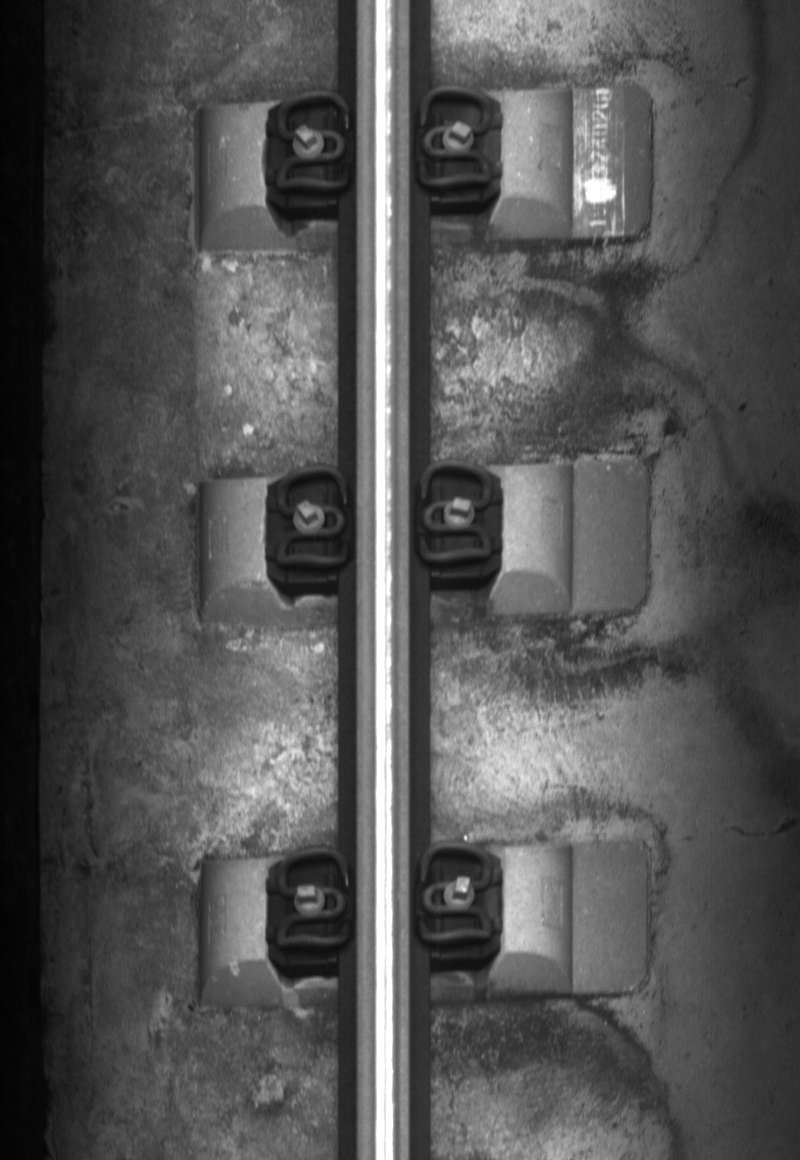l_faster: (270, 85, 354, 202), (270, 843, 354, 956), (271, 462, 355, 575)
r_faster: (413, 458, 495, 567), (415, 840, 496, 949), (415, 84, 494, 194)
